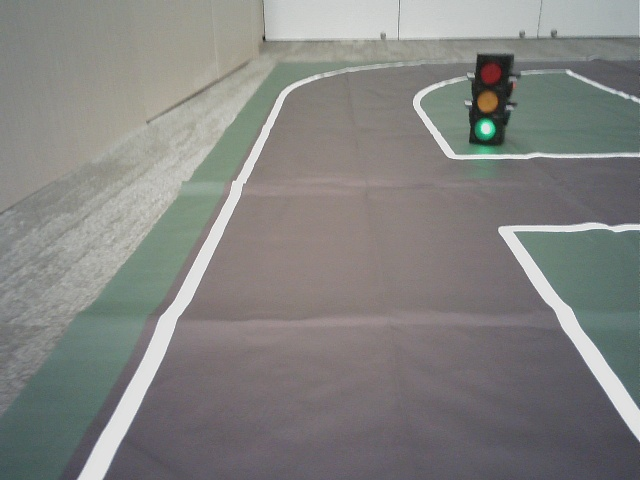green: (471, 58, 501, 141)
